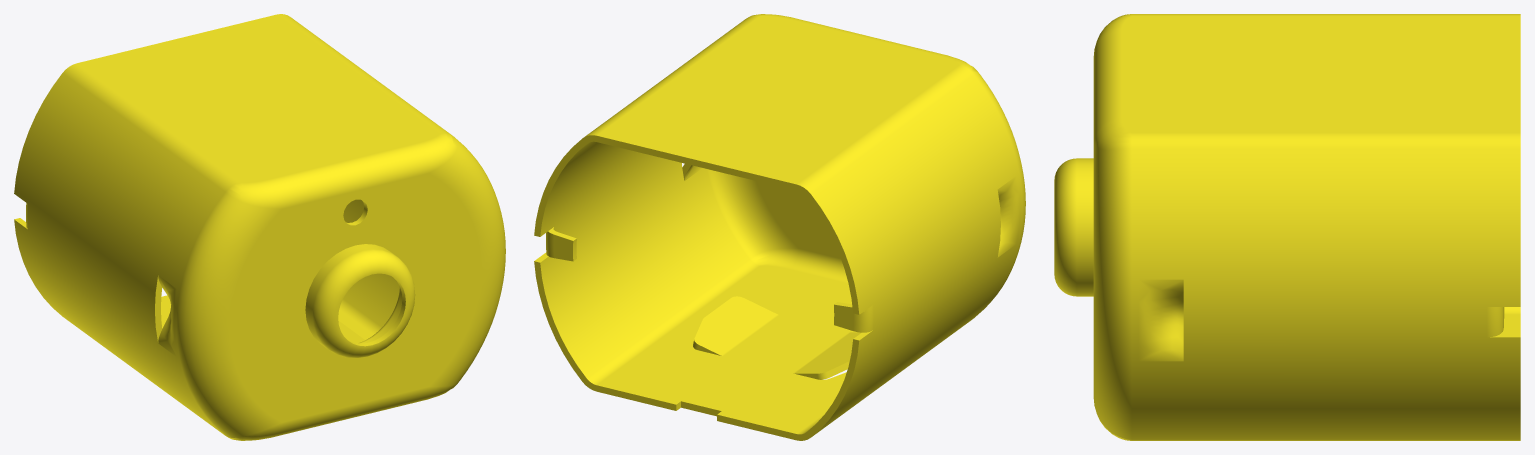
File: part 1 housing.fbx
3 renders of one model, left to right at view 1: azimuth 30°, elevation 25°; view 2: azimuth 150°, elevation 25°; view 3: azimuth 270°, elevation 25°, orthographic. The views are drawn at different scales.
Visible parts, largest first — view 1: Default; view 2: Default; view 3: Default.
Boxes of the visible parts, x1,y1,x2,y2 form: Default: (14,14,505,440); Default: (534,14,1025,440); Default: (1054,14,1520,440).
Size of the model in its own units: 8.9 by 6.67 by 9.23.
